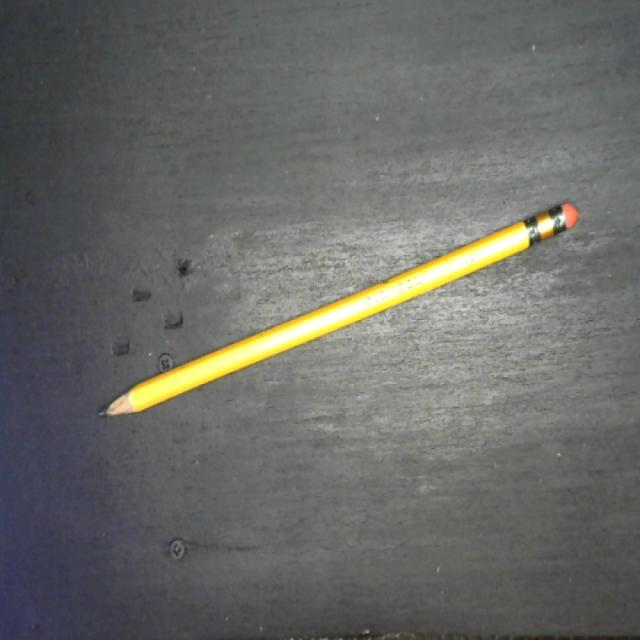biodegradable: (93, 200, 580, 420)
